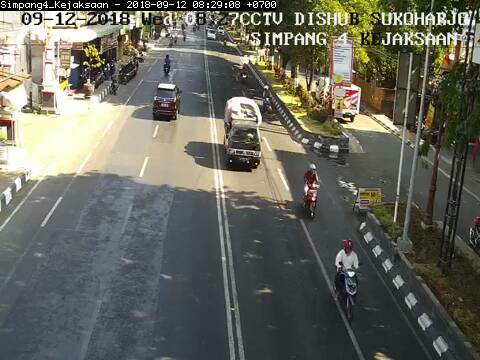motor: (333, 240, 363, 321), (300, 162, 324, 220)
